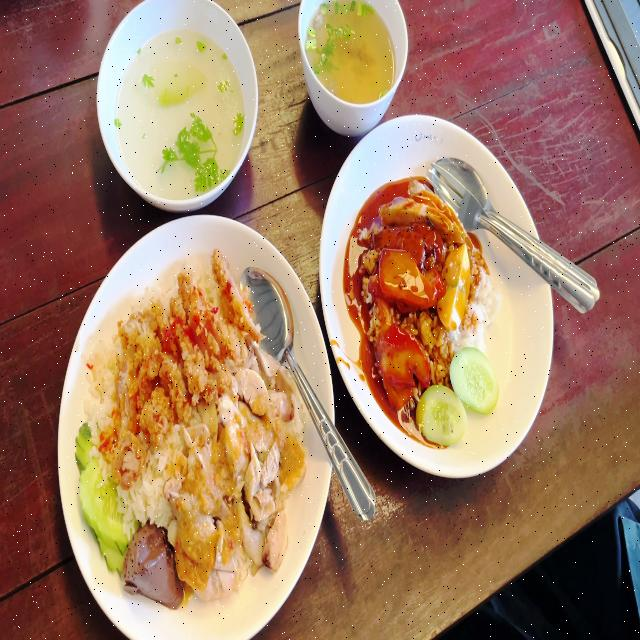boiled_chicken: (132, 330, 317, 606)
boiled_chicken_blood_jelly: (123, 523, 180, 603)
boiled_egg: (442, 245, 469, 328)
chainese_sausage: (378, 216, 443, 264)
chicken_rice: (76, 246, 309, 613)
crispy_pork: (380, 178, 471, 241)
cucumber: (73, 419, 134, 580), (416, 384, 467, 447), (449, 344, 496, 410)
fried_chicken: (84, 241, 284, 515)
red_pork: (376, 324, 433, 406), (378, 246, 439, 307)
red_pork_and_crispy_pork: (338, 154, 510, 456)
